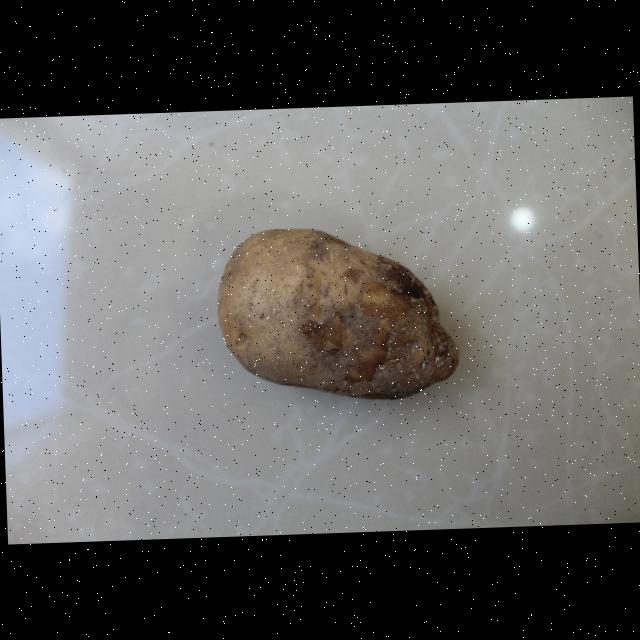Diseased-fungal potato: (213, 222, 464, 408)
